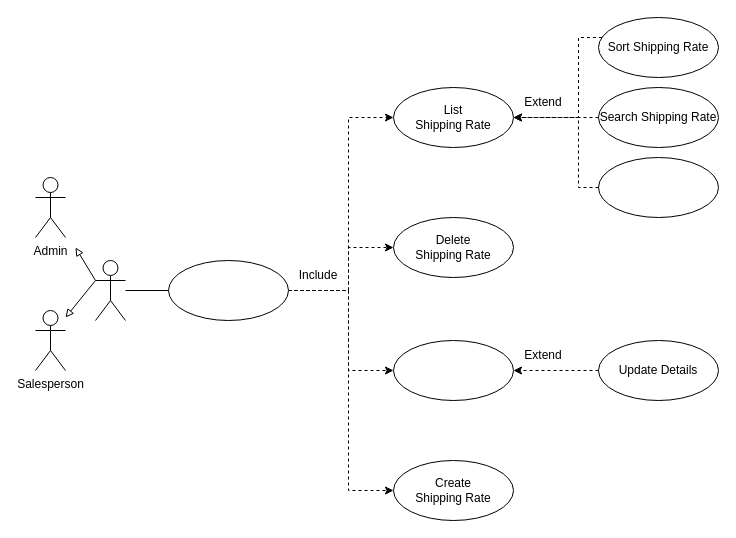
Image size: 736x538. Some labels were removed from this diagram. The shapes that lost their labels are listed below. From the top down, each one's box as (x1, y1, x2, y2) in pixels, then its label:
(598, 156, 718, 218): Use Pagination
(94, 260, 126, 320): Users
(168, 260, 288, 320): Manage Shipping rates
(392, 340, 514, 400): Edit Shipping Rate
